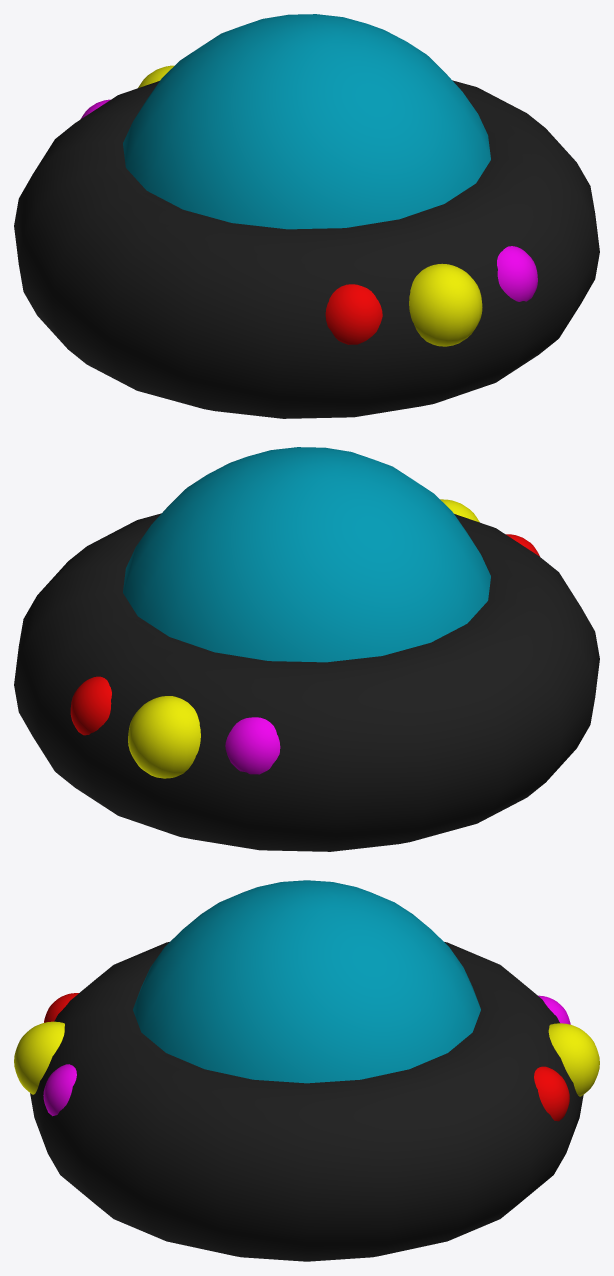
File: UFO.fbx
3 views of the same model, one above another, from view 1: azimuth 30°, elevation 25°; view 2: azimuth 150°, elevation 25°; view 3: azimuth 270°, elevation 25° (orthographic). The views are drawn at different scales.
Visible parts, largest first — view 1: pTorus2; view 2: pTorus2; view 3: pTorus2.
Part boxes in pixels (x1=…): pTorus2: x1=14, y1=14, x2=599, y2=418; pTorus2: x1=14, y1=447, x2=599, y2=851; pTorus2: x1=14, y1=880, x2=599, y2=1261.
Size of the model in its own units: 3 by 1.66 by 3.17.
